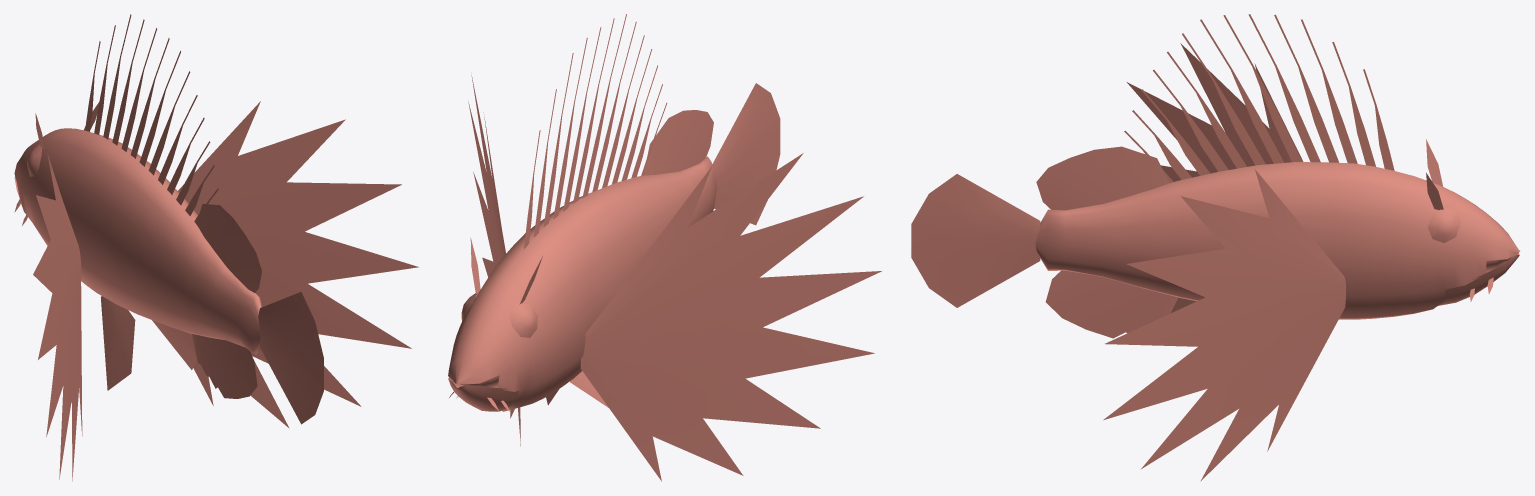
Rendered from lionfish_lo.glb.
The picture shows the model from 3 angles, left to right: view 1: azimuth 30°, elevation 25°; view 2: azimuth 150°, elevation 25°; view 3: azimuth 270°, elevation 25°; orthographic projection. The views are drawn at different scales.
Parts seen in each view (by area): view 1: lionfish_lo; view 2: lionfish_lo; view 3: lionfish_lo.
Boxes of the visible parts, x1,y1,x2,y2 form: lionfish_lo: [14, 14, 418, 481]; lionfish_lo: [448, 14, 881, 481]; lionfish_lo: [911, 14, 1519, 481].
Size of the model in its own units: 0.2542 by 0.2606 by 0.3472.
